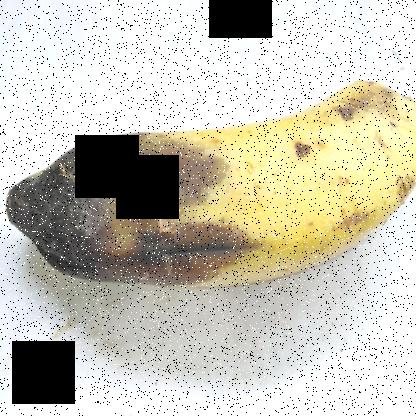rotten: (1, 118, 232, 302)
